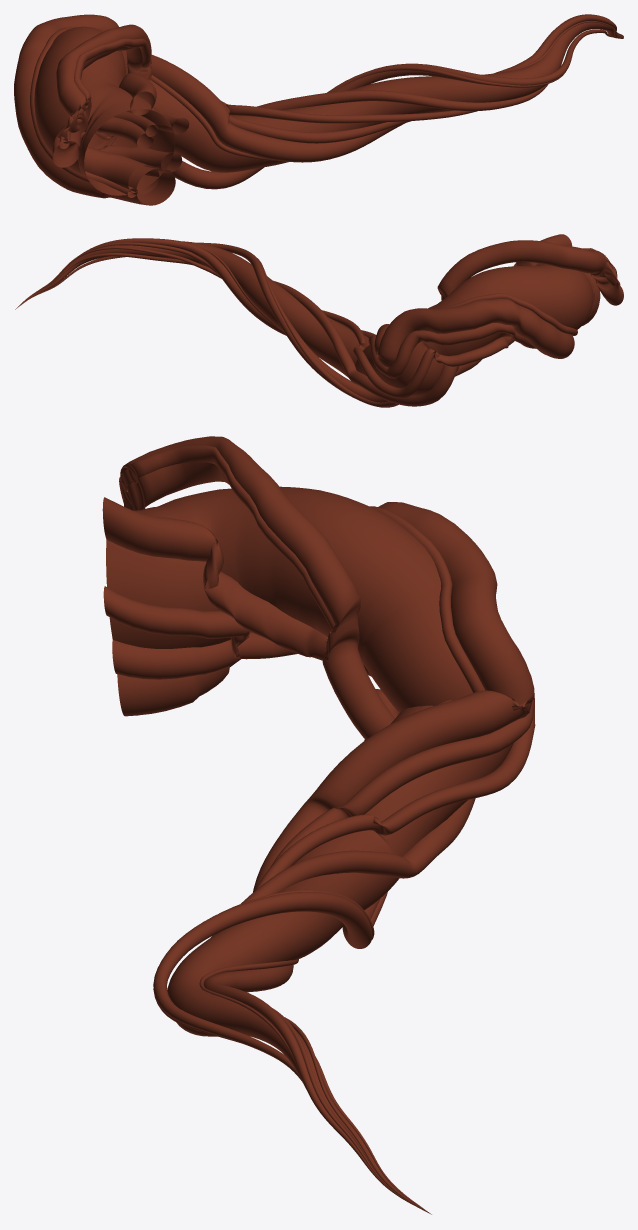
Rendered from Racine.fbx.
The picture shows the model from 3 angles, top to bottom: view 1: azimuth 30°, elevation 25°; view 2: azimuth 150°, elevation 25°; view 3: azimuth 270°, elevation 25°; orthographic projection. The views are drawn at different scales.
Parts seen in each view (by area): view 1: Racine; view 2: Racine; view 3: Racine.
Boxes of the visible parts, x1,y1,x2,y2 form: Racine: (14,14,623,205); Racine: (15,234,623,407); Racine: (102,436,535,1214).
Bounding box in the file's own units: 160 × 50.02 × 56.19.
